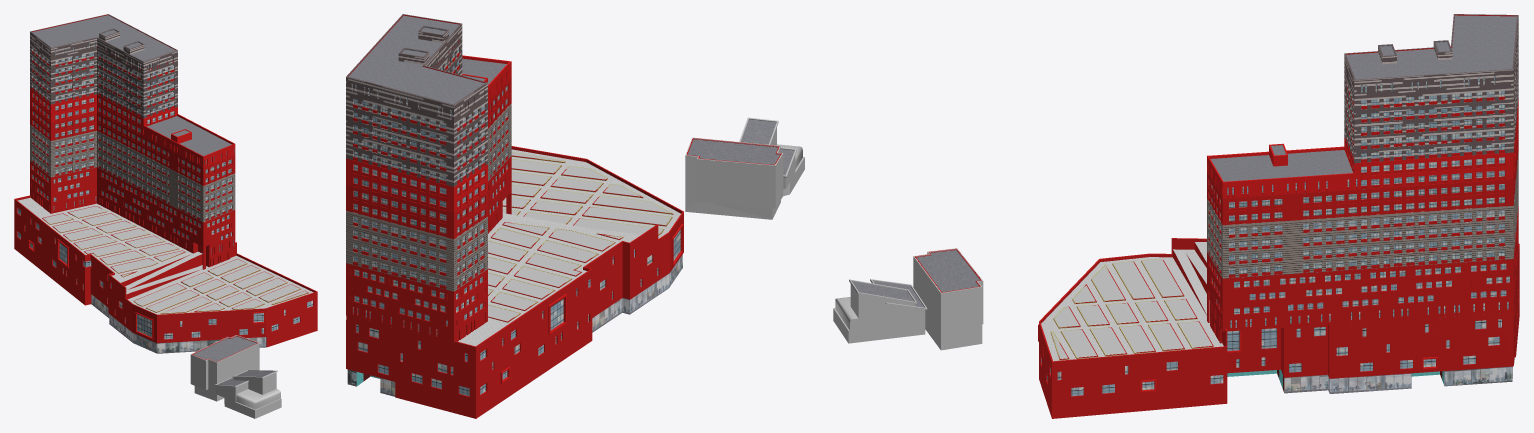
The model's file is MODEL_HUB.fbx.
3 renders of one model, left to right at view 1: azimuth 30°, elevation 25°; view 2: azimuth 150°, elevation 25°; view 3: azimuth 270°, elevation 25°, orthographic. The views are drawn at different scales.
Parts seen in each view (by area): view 1: SM_AM_Center_Building, SM_AM_Center_Building_Grass, SM_AM_Center_Building_Pavement, SM_Building_06, SM_AM_Center_Building_Border; view 2: SM_AM_Center_Building, SM_AM_Center_Building_Grass, SM_Building_06, SM_AM_Center_Building_Pavement, SM_AM_Center_Building_Border; view 3: SM_AM_Center_Building, SM_Building_06, SM_AM_Center_Building_Grass, SM_AM_Center_Building_Pavement, SM_AM_Center_Building_Border.
Part boxes in pixels (bbox=[...]): SM_AM_Center_Building: bbox=[14, 14, 317, 353]; SM_AM_Center_Building_Grass: bbox=[43, 206, 307, 313]; SM_AM_Center_Building_Pavement: bbox=[18, 197, 313, 314]; SM_Building_06: bbox=[190, 335, 281, 418]; SM_AM_Center_Building_Border: bbox=[42, 206, 308, 314]; SM_AM_Center_Building: bbox=[346, 14, 683, 418]; SM_AM_Center_Building_Grass: bbox=[488, 152, 670, 321]; SM_Building_06: bbox=[685, 117, 804, 219]; SM_AM_Center_Building_Pavement: bbox=[458, 149, 680, 346]; SM_AM_Center_Building_Border: bbox=[488, 152, 673, 322]; SM_AM_Center_Building: bbox=[1038, 14, 1519, 418]; SM_Building_06: bbox=[833, 248, 983, 350]; SM_AM_Center_Building_Grass: bbox=[1051, 259, 1212, 358]; SM_AM_Center_Building_Pavement: bbox=[1041, 242, 1223, 361]; SM_AM_Center_Building_Border: bbox=[1050, 259, 1213, 360].
Size of the model in its own units: 77.01 by 101 by 196.
